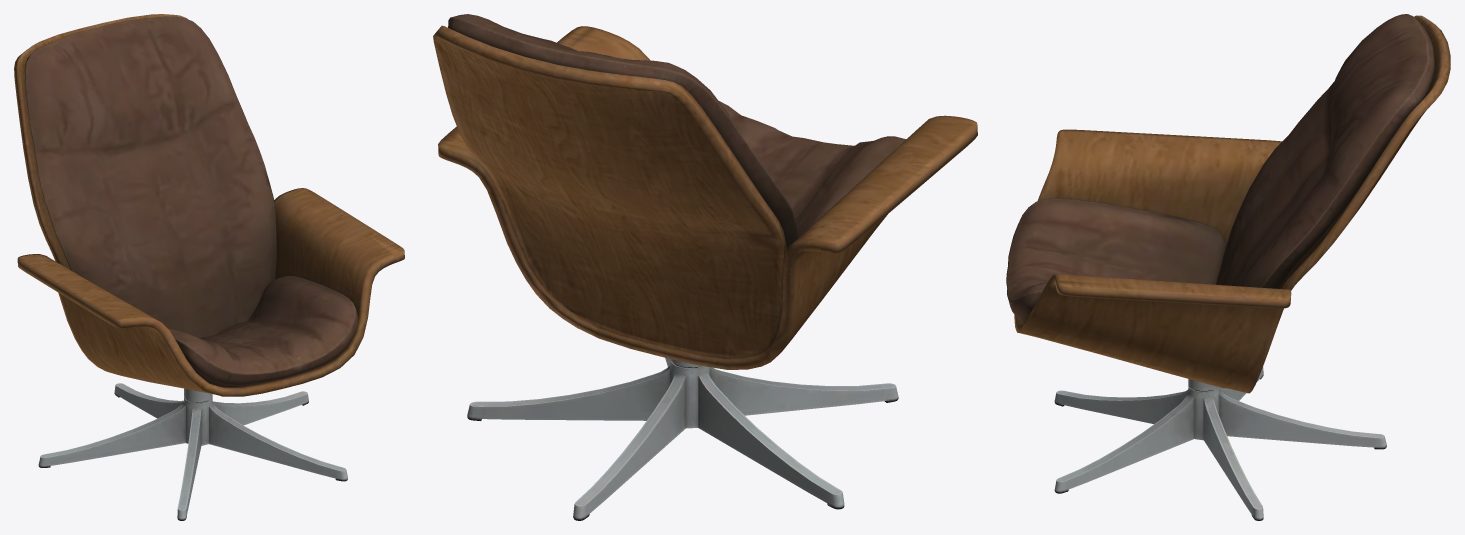
File: mid_century_lounge_chair.glb
3 views of the same model, side by side, from view 1: azimuth 30°, elevation 25°; view 2: azimuth 150°, elevation 25°; view 3: azimuth 270°, elevation 25° (orthographic). The views are drawn at different scales.
Visible parts, largest first — view 1: mid_century_lounge_chair; view 2: mid_century_lounge_chair; view 3: mid_century_lounge_chair.
Part boxes in pixels (left/top/right/bottom): mid_century_lounge_chair: left=14, top=14, right=404, bottom=520; mid_century_lounge_chair: left=433, top=14, right=977, bottom=520; mid_century_lounge_chair: left=1006, top=14, right=1450, bottom=520.
Bounding box in the file's own units: 1.01 × 1.17 × 1.19.
Materials: 1 (1 with a texture image).
